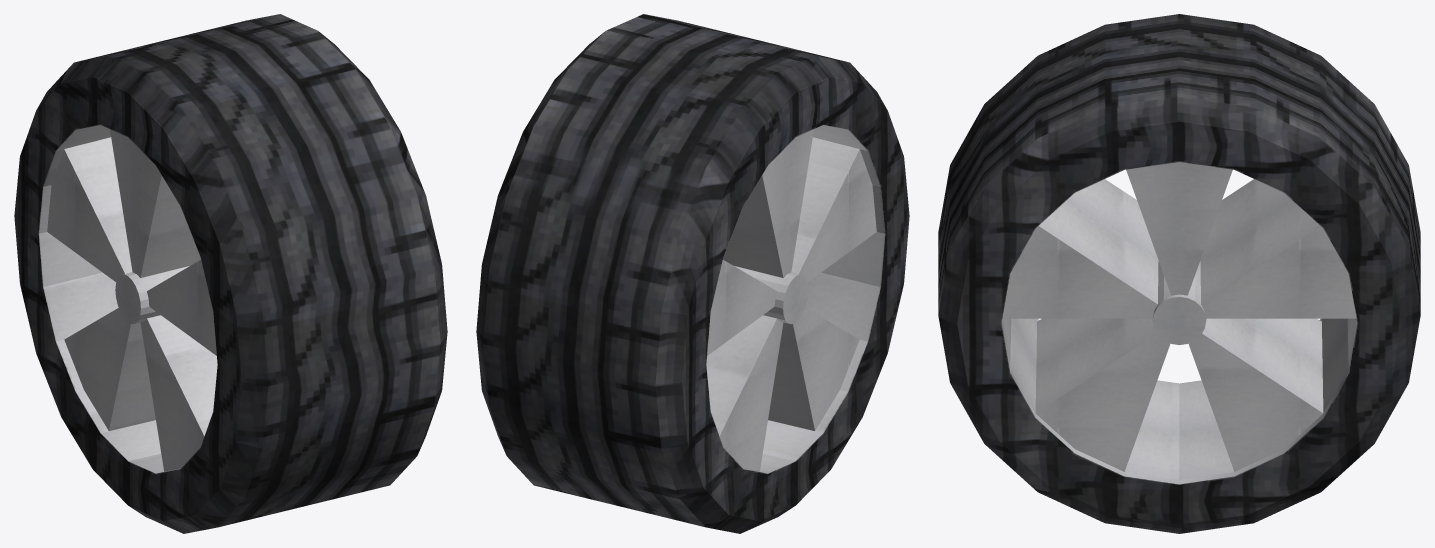
File: Wheel.glb
The picture shows the model from 3 angles, left to right: view 1: azimuth 30°, elevation 25°; view 2: azimuth 150°, elevation 25°; view 3: azimuth 270°, elevation 25°; orthographic projection.
Parts seen in each view (by area): view 1: pCylinder1; view 2: pCylinder1; view 3: pCylinder1.
Part boxes in pixels (bbox=[...]): pCylinder1: bbox=[14, 14, 447, 533]; pCylinder1: bbox=[476, 14, 909, 533]; pCylinder1: bbox=[938, 14, 1420, 533].
Size of the model in its own units: 0.2189 by 0.45 by 0.45.
Materials: 1 (1 with a texture image).
